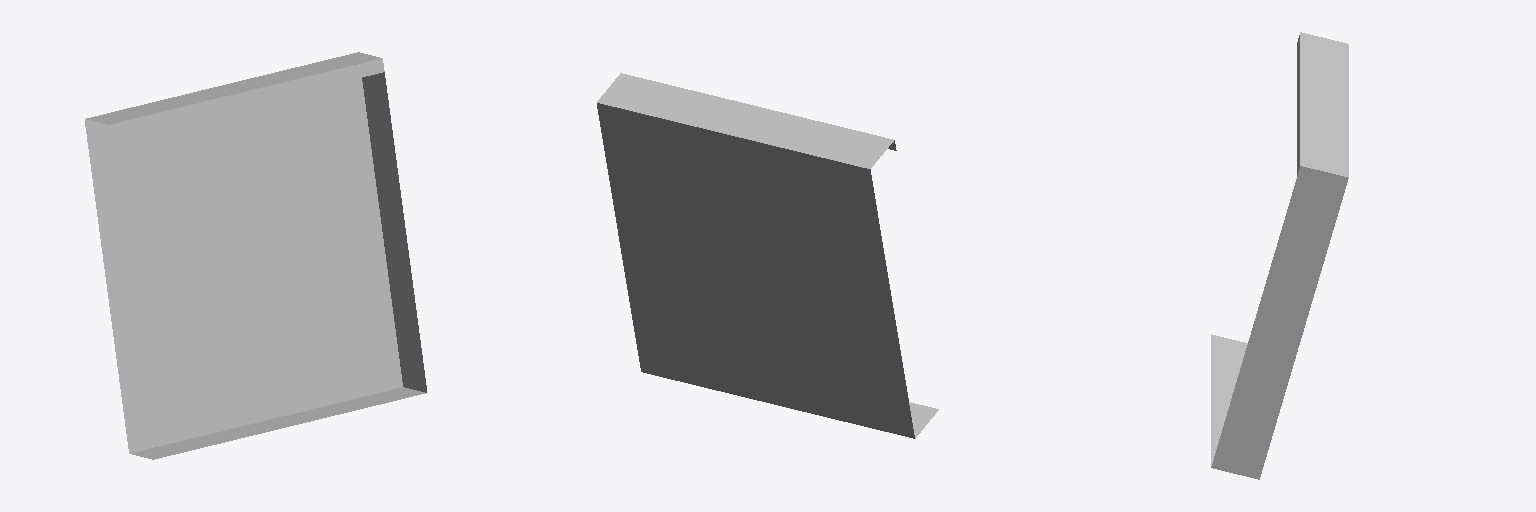
Rendered from original-8.obj.
3 renders of one model, left to right at view 1: azimuth 30°, elevation 25°; view 2: azimuth 150°, elevation 25°; view 3: azimuth 270°, elevation 25°, orthographic.
Parts seen in each view (by area): view 1: Component_2_1/Component_2/mesh11/mesh11-geometry#mesh11-geometry; view 2: Component_2_1/Component_2/mesh11/mesh11-geometry#mesh11-geometry; view 3: Component_2_1/Component_2/mesh11/mesh11-geometry#mesh11-geometry.
Part boxes in pixels (x1,y1,x2,y2): Component_2_1/Component_2/mesh11/mesh11-geometry#mesh11-geometry: (85,52,426,459); Component_2_1/Component_2/mesh11/mesh11-geometry#mesh11-geometry: (597,73,938,438); Component_2_1/Component_2/mesh11/mesh11-geometry#mesh11-geometry: (1211,32,1348,479).
Size of the model in its own units: 0.4834 by 0.5293 by 0.2108.